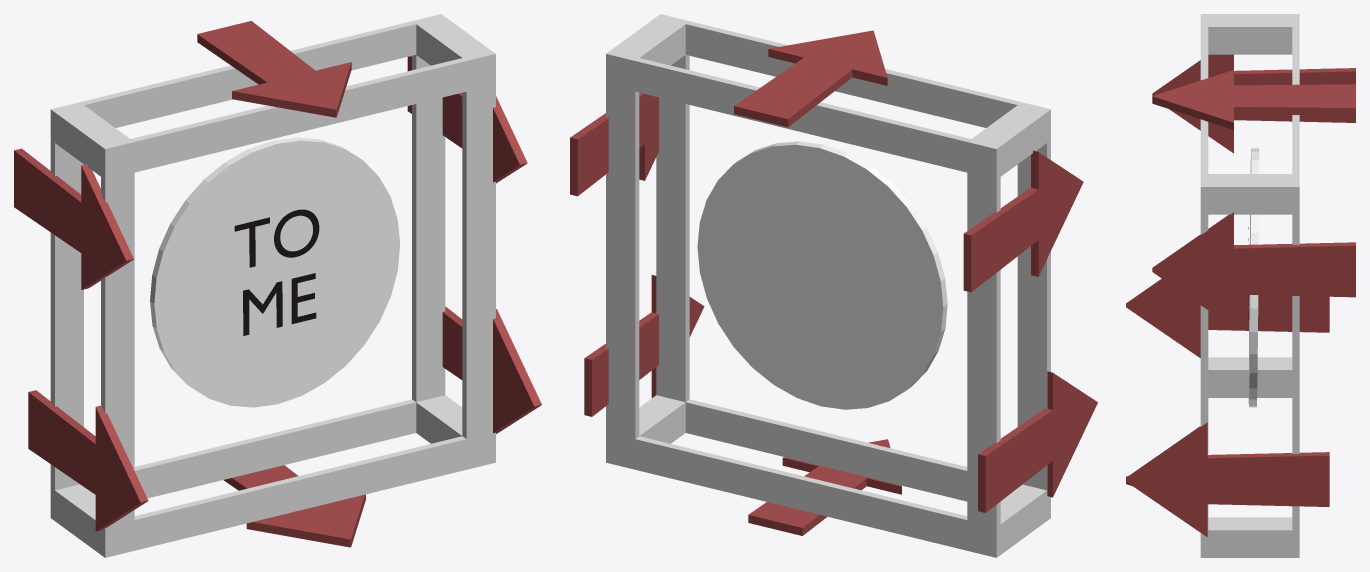
Rendered from ToMe.glb.
3 renders of one model, left to right at view 1: azimuth 30°, elevation 25°; view 2: azimuth 150°, elevation 25°; view 3: azimuth 270°, elevation 25°, orthographic. The views are drawn at different scales.
Parts seen in each view (by area): view 1: Cube, Cylinder.001, Cube.001, Cube.010, Cube.012, Cube.003, Cube.004, Text, Cube.008; view 2: Cube, Cylinder.001, Cube.010, Cube.001, Cube.012, Cube.008, Cube.003, Cube.004; view 3: Cube, Cube.003, Cube.008, Cube.012, Cube.001, Cube.010, Cylinder.001.
Part boxes in pixels (x1=…): Cube: x1=50, y1=14, x2=495, y2=557; Cylinder.001: x1=150, y1=137, x2=400, y2=407; Cube.001: x1=28, y1=390, x2=148, y2=531; Cube.010: x1=14, y1=148, x2=133, y2=289; Cube.012: x1=197, y1=21, x2=351, y2=117; Cube.003: x1=442, y1=306, x2=541, y2=433; Cube.004: x1=223, y1=465, x2=365, y2=547; Text: x1=234, y1=209, x2=319, y2=335; Cube.008: x1=407, y1=56, x2=527, y2=183; Cube: x1=606, y1=14, x2=1050, y2=557; Cylinder.001: x1=697, y1=141, x2=947, y2=409; Cube.010: x1=963, y1=150, x2=1083, y2=292; Cube.001: x1=978, y1=371, x2=1097, y2=512; Cube.012: x1=734, y1=30, x2=887, y2=127; Cube.008: x1=570, y1=92, x2=658, y2=196; Cube.003: x1=584, y1=275, x2=704, y2=416; Cube.004: x1=748, y1=439, x2=901, y2=535; Cube: x1=1200, y1=14, x2=1299, y2=557; Cube.003: x1=1126, y1=422, x2=1329, y2=537; Cube.008: x1=1152, y1=212, x2=1355, y2=327; Cube.012: x1=1152, y1=70, x2=1355, y2=129; Cube.001: x1=1126, y1=278, x2=1329, y2=358; Cube.010: x1=1152, y1=54, x2=1355, y2=153; Cylinder.001: x1=1248, y1=148, x2=1259, y2=407.
Size of the model in its own units: 2.05 by 2.09 by 1.12.
